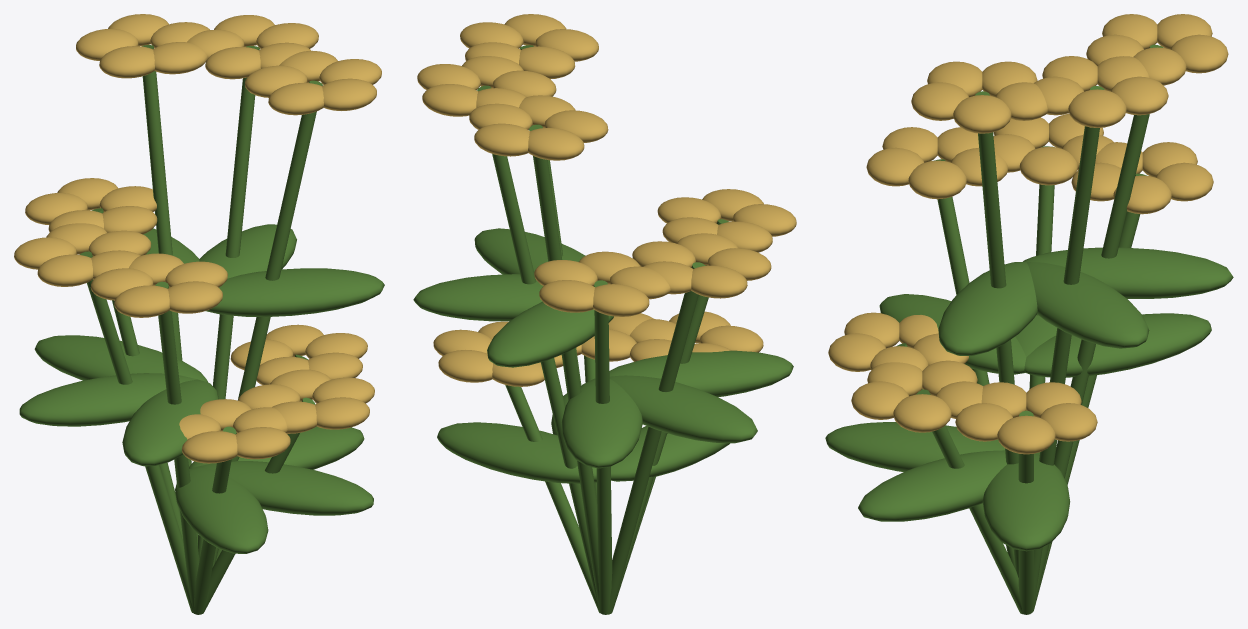
The model's file is flowers.glb.
The picture shows the model from 3 angles, left to right: view 1: azimuth 30°, elevation 25°; view 2: azimuth 150°, elevation 25°; view 3: azimuth 270°, elevation 25°; orthographic projection. The views are drawn at different scales.
Parts seen in each view (by area): view 1: petal (×45), leaf (×9), stem (×8); view 2: petal (×39), leaf (×8), stem (×6); view 3: petal (×44), leaf (×9), stem (×8).
Boxes of the visible parts, x1=… form: petal (×45): x1=14, y1=14, x2=381, y2=463; leaf (×9): x1=19, y1=224, x2=384, y2=553; stem (×8): x1=80, y1=45, x2=322, y2=614; petal (×39): x1=417, y1=14, x2=796, y2=386; leaf (×8): x1=413, y1=228, x2=793, y2=483; stem (×6): x1=477, y1=85, x2=728, y2=614; petal (×44): x1=828, y1=14, x2=1228, y2=454; leaf (×9): x1=825, y1=247, x2=1233, y2=551; stem (×8): x1=916, y1=44, x2=1163, y2=614.
Size of the model in its own units: 0.3802 by 0.585 by 0.3731.
